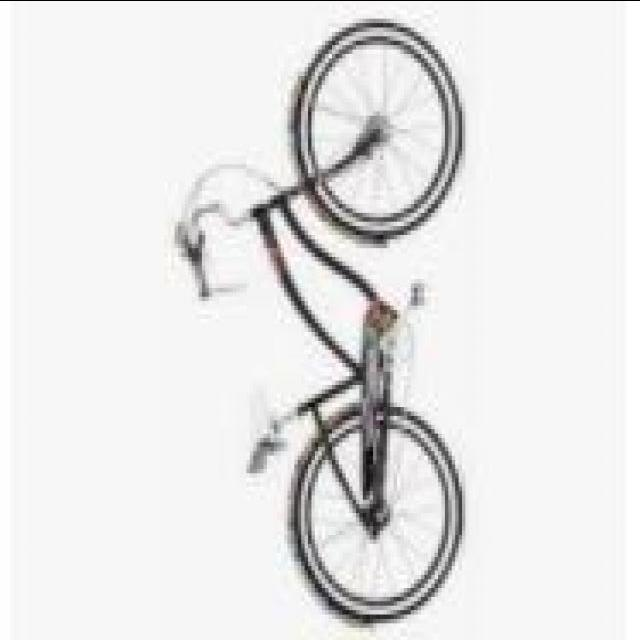bicycle: (172, 32, 470, 606)
